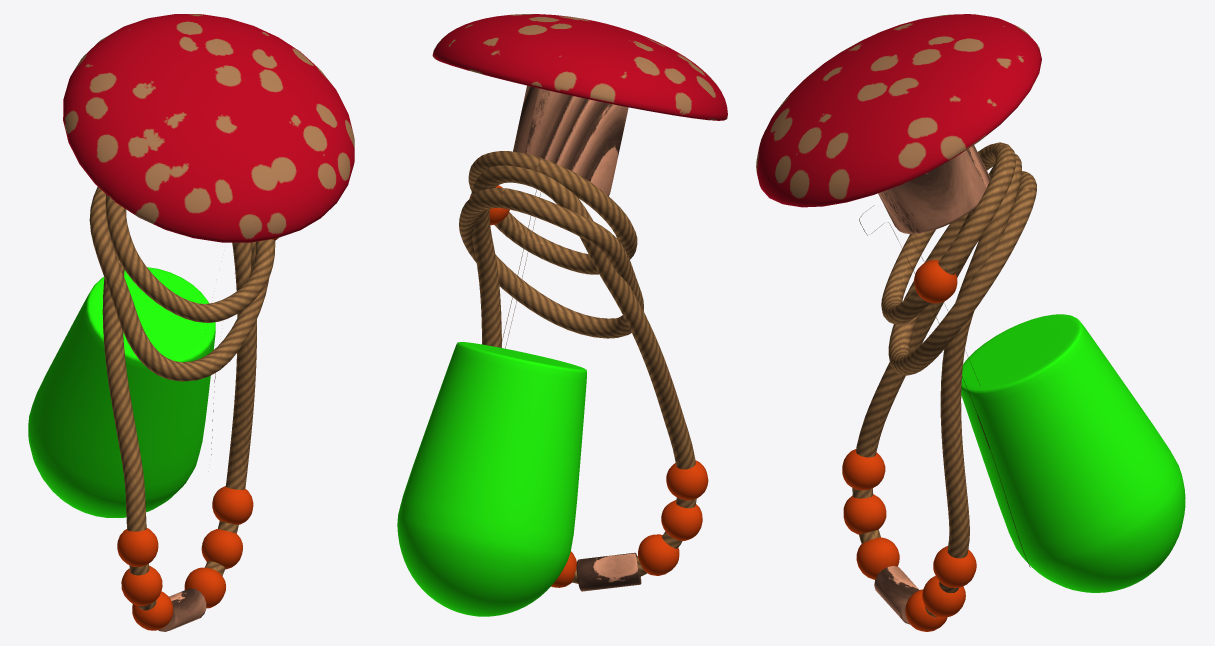
The model's file is potion bottle.fbx.
3 renders of one model, left to right at view 1: azimuth 30°, elevation 25°; view 2: azimuth 150°, elevation 25°; view 3: azimuth 270°, elevation 25°, orthographic. The views are drawn at different scales.
Visible parts, largest first — view 1: Potion Bottel_Baked; view 2: Potion Bottel_Baked; view 3: Potion Bottel_Baked.
Boxes of the visible parts, <box> form: Potion Bottel_Baked: <box>28,14,354,631</box>; Potion Bottel_Baked: <box>397,14,727,616</box>; Potion Bottel_Baked: <box>756,14,1185,631</box>.
Size of the model in its own units: 4.01 by 8.4 by 5.71.
